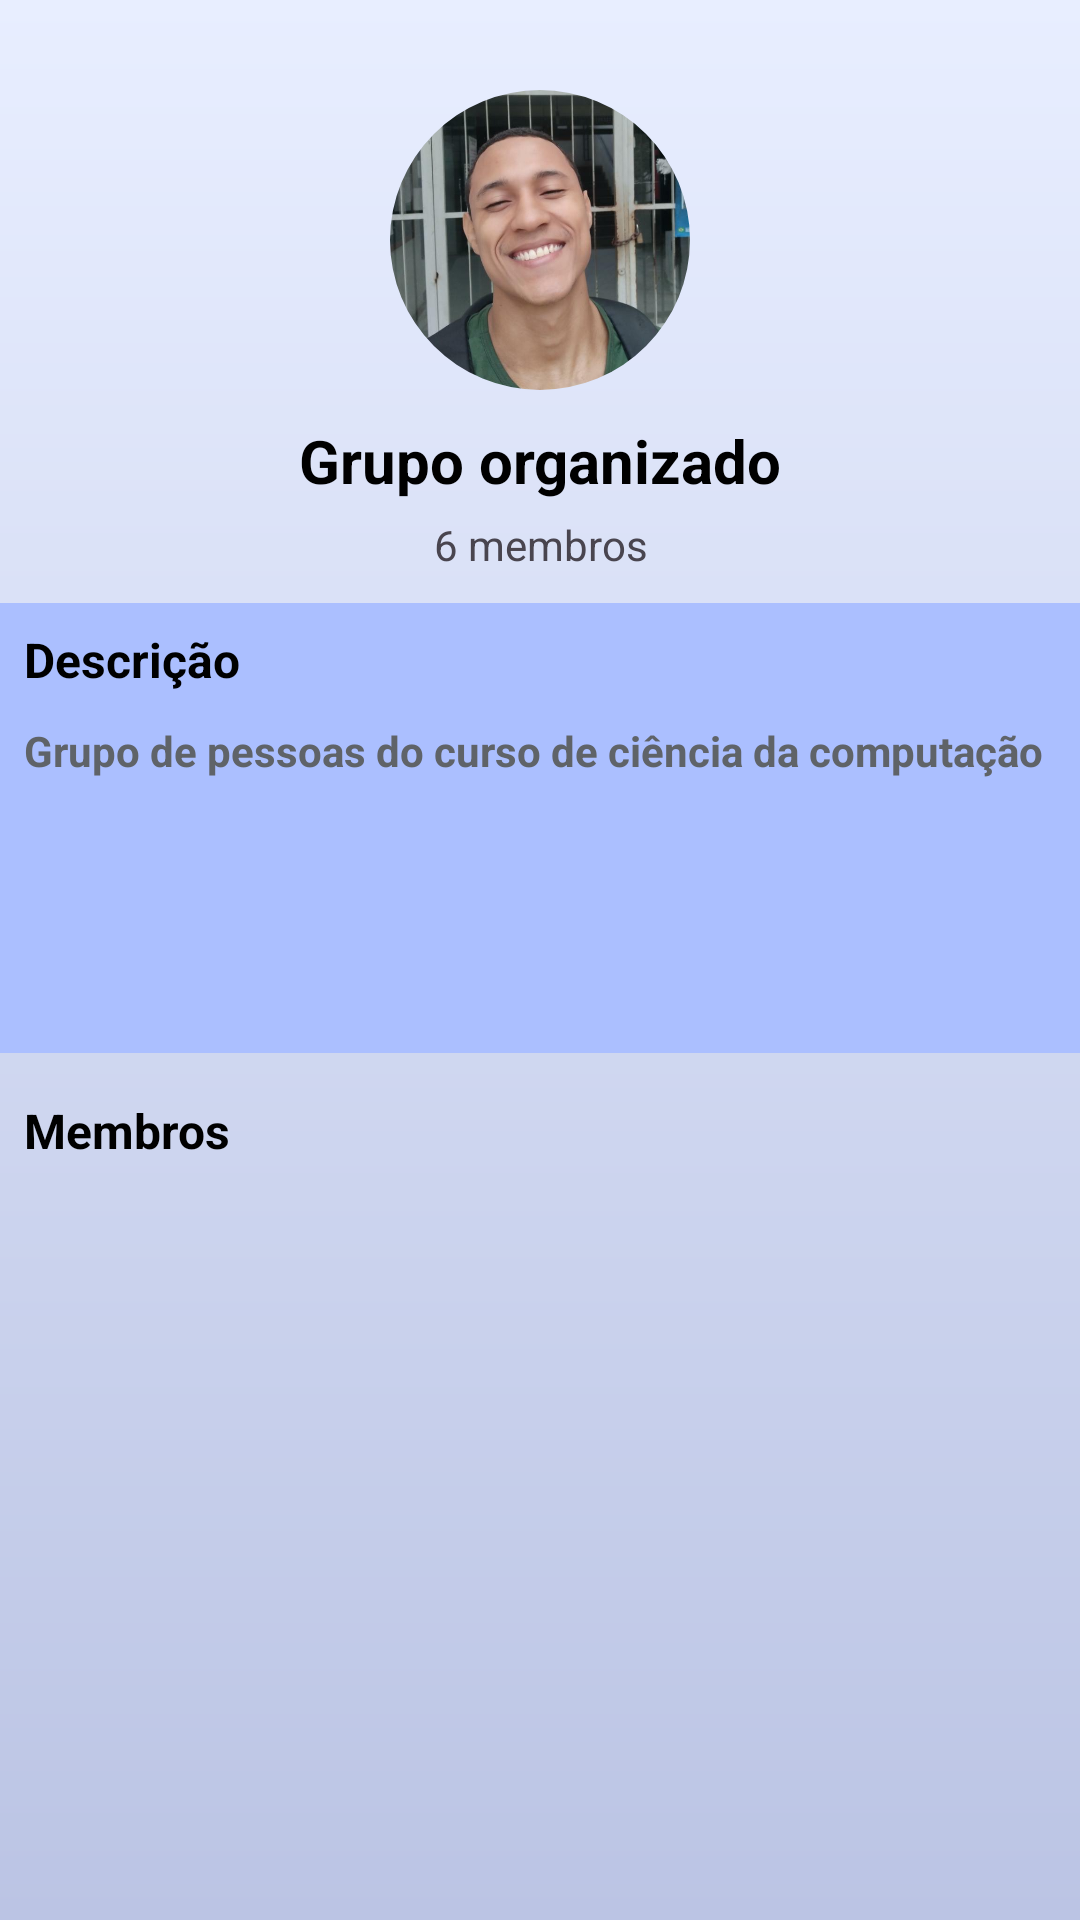

Screen size 1080x1920. Icon name, then its box in pixels as (x1, y1, x2, y2):
profile: (390, 90, 690, 390)
